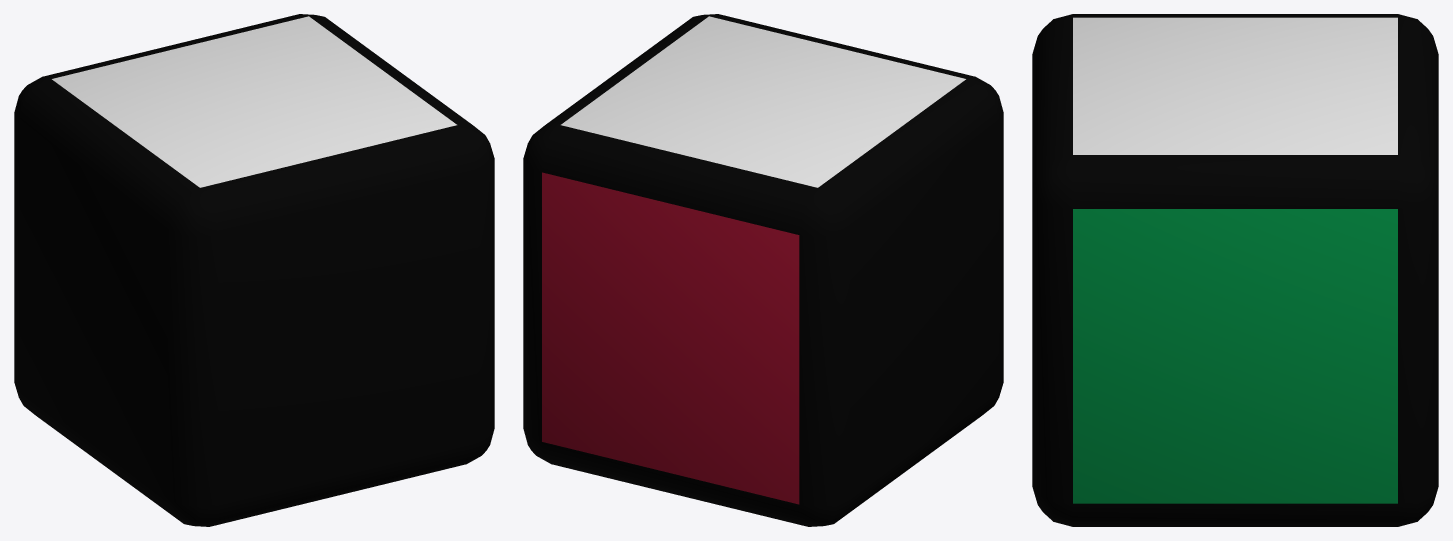
Rendered from cube_front_down_left_corner.gltf.
3 views of the same model, side by side, from view 1: azimuth 30°, elevation 25°; view 2: azimuth 150°, elevation 25°; view 3: azimuth 270°, elevation 25° (orthographic). The views are drawn at different scales.
Visible parts, largest first — view 1: Cube.026; view 2: Cube.026; view 3: Cube.026.
Boxes of the visible parts, x1,y1,x2,y2 form: Cube.026: (14,14,494,526); Cube.026: (523,14,1003,526); Cube.026: (1032,14,1438,526).
Bounding box in the file's own units: 2 × 2 × 2.
